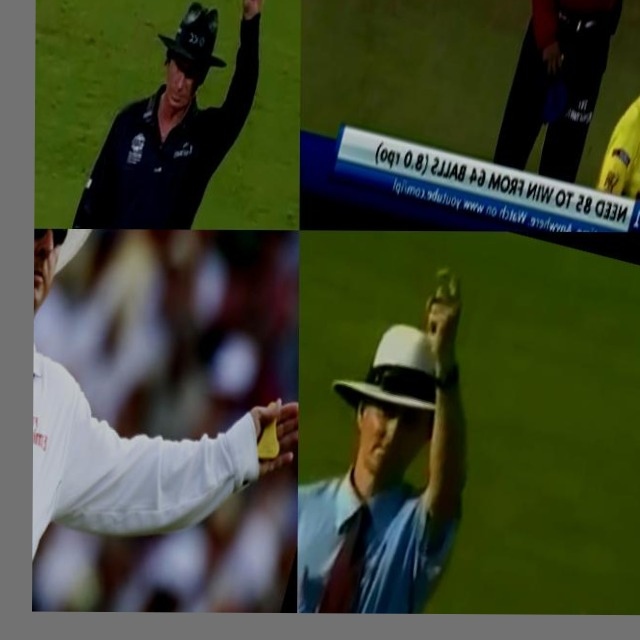Out: (297, 230, 526, 614), (54, 0, 297, 230), (478, 0, 640, 232)
Wide: (32, 229, 299, 613)
